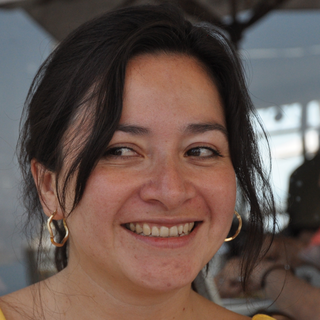eye: (99, 139, 145, 164), (178, 140, 223, 165)
